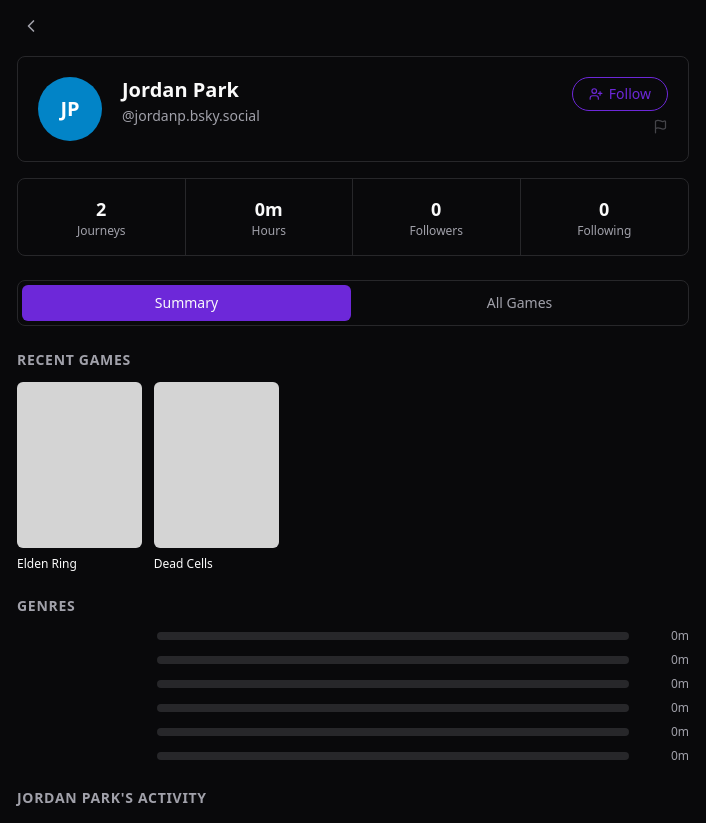
Test: PlayerProfile › Follow toggles to Unfollow after clicking
Click the button "Follow" at (620, 94), box left=572, top=77, right=668, bottom=111
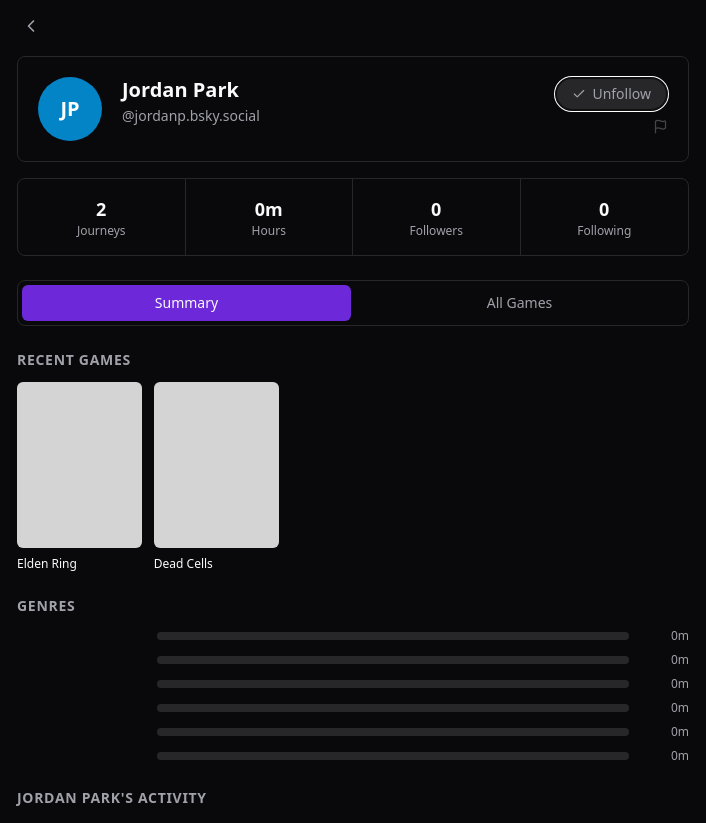
Expected: the button "Unfollow" is shown, left=555, top=77, right=668, bottom=111
